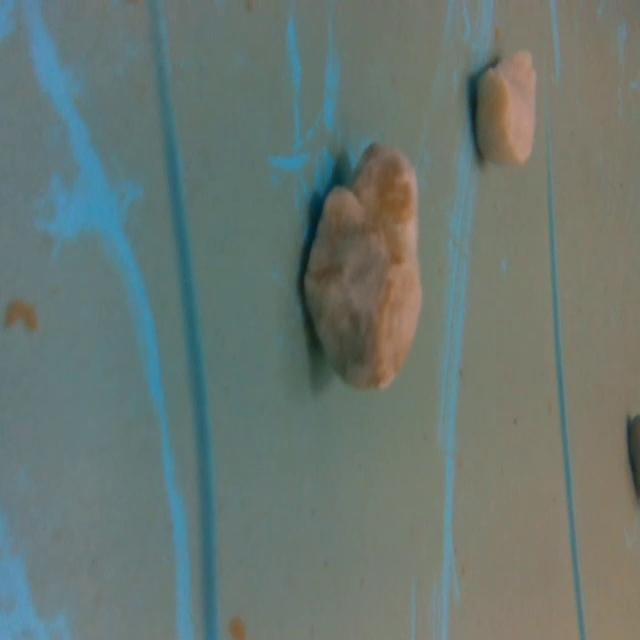rock: (291, 132, 429, 398), (465, 46, 548, 172)
